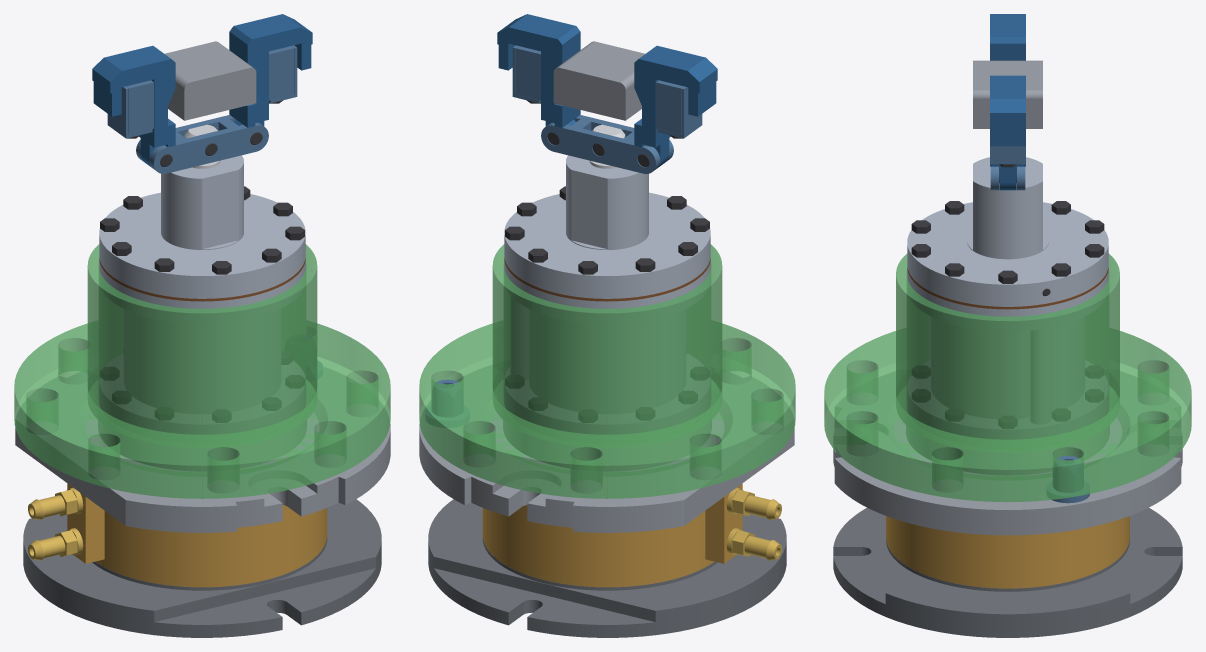
The model's file is prisposoblenie_svarochnoe_2.glb.
The picture shows the model from 3 angles, left to right: view 1: azimuth 30°, elevation 25°; view 2: azimuth 150°, elevation 25°; view 3: azimuth 270°, elevation 25°; orthographic projection. The views are drawn at different scales.
Visible parts, largest first — view 1: flanec_17, stakan_zagotovka, korpus_15, gilza_18, plita, kryshka_11, vtulka_16, kolodka, rychag_5_L, rychag_5_R, traversa_10, korpus_fiks_L (+5 smaller); view 2: flanec_17, stakan_zagotovka, korpus_15, gilza_18, plita, kryshka_11, vtulka_16, kolodka, rychag_5_L, rychag_5_R, traversa_10, palec_24 (+7 smaller); view 3: flanec_17, stakan_zagotovka, korpus_15, plita, gilza_18, kryshka_11, vtulka_16, rychag_5_R, kolodka, trubka_13, rychag_5_L, palec_24 (+2 smaller).
Part boxes in pixels (x1,y1,x2,y2): flanec_17: (14, 321, 390, 498); stakan_zagotovka: (87, 244, 317, 447); korpus_15: (15, 367, 390, 532); gilza_18: (99, 261, 305, 433); plita: (23, 499, 381, 637); kryshka_11: (99, 155, 305, 298); vtulka_16: (67, 483, 327, 587); kolodka: (164, 41, 256, 120); rychag_5_L: (92, 45, 175, 168); rychag_5_R: (229, 14, 312, 127); traversa_10: (136, 115, 268, 173); korpus_fiks_L: (126, 80, 153, 134); flanec_17: (419, 321, 795, 498); stakan_zagotovka: (492, 244, 722, 447); korpus_15: (419, 365, 794, 532); gilza_18: (504, 261, 710, 433); plita: (428, 499, 786, 637); kryshka_11: (504, 155, 710, 298); vtulka_16: (482, 483, 742, 587); kolodka: (553, 41, 645, 120); rychag_5_L: (634, 45, 717, 168); rychag_5_R: (497, 14, 580, 127); traversa_10: (541, 115, 673, 173); palec_24: (426, 379, 469, 427); flanec_17: (824, 328, 1191, 502); stakan_zagotovka: (896, 253, 1119, 451); korpus_15: (833, 371, 1182, 535); plita: (833, 507, 1182, 637); gilza_18: (907, 270, 1108, 438); kryshka_11: (907, 157, 1108, 306); vtulka_16: (886, 516, 1129, 588); rychag_5_R: (990, 75, 1025, 190); kolodka: (973, 60, 1042, 128); trubka_13: (1030, 328, 1050, 423); rychag_5_L: (990, 14, 1025, 60); palec_24: (1047, 456, 1089, 503).
Size of the model in its own units: 215 by 320 by 210.
